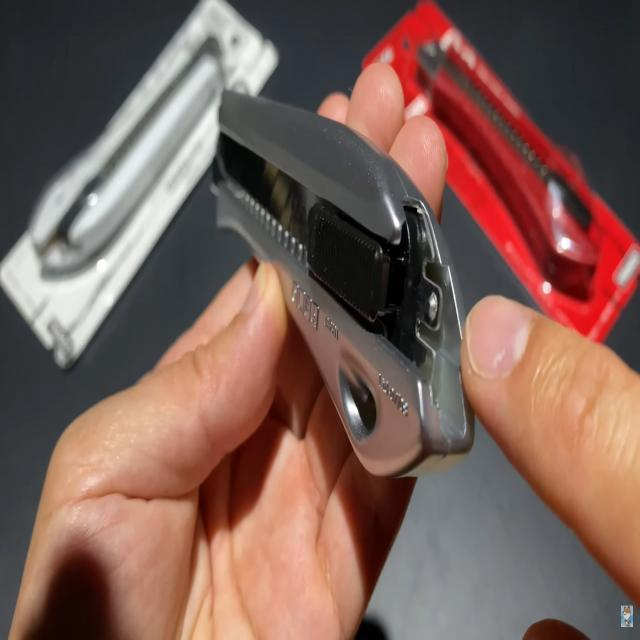cutter: (0, 39, 640, 640)
